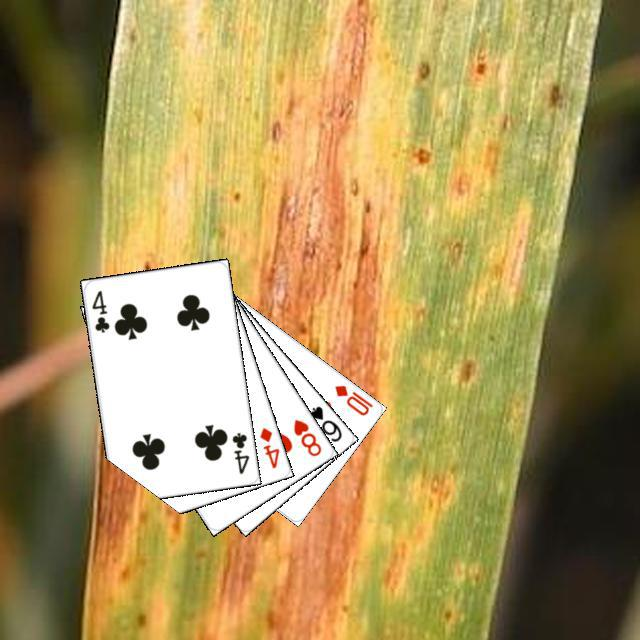10d: (330, 380, 375, 418)
4c: (87, 285, 111, 334), (227, 427, 251, 475)
4d: (255, 422, 281, 470)
6s: (305, 401, 344, 444)
8h: (288, 414, 323, 458)
